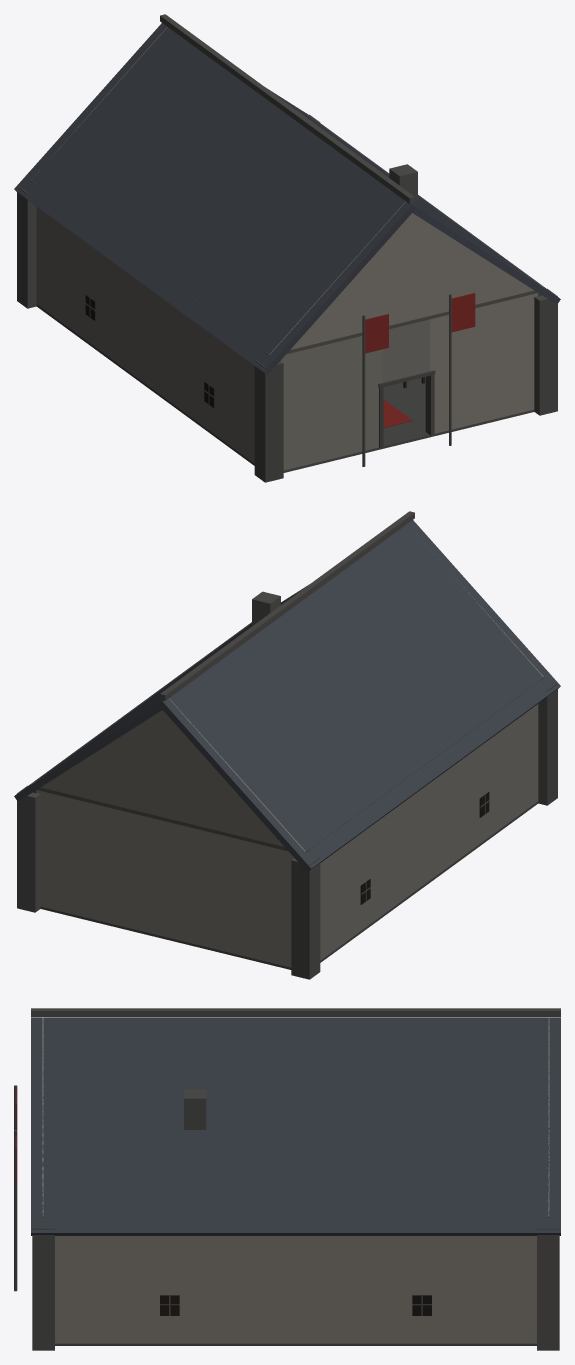
Rendered from walk_freehold_hall.glb.
3 renders of one model, top to bottom at view 1: azimuth 30°, elevation 25°; view 2: azimuth 150°, elevation 25°; view 3: azimuth 270°, elevation 25°, orthographic. The views are drawn at different scales.
Visible parts, largest first — view 1: walk_freehold_hall_roof, walk_freehold_hall; view 2: walk_freehold_hall_roof, walk_freehold_hall; view 3: walk_freehold_hall_roof, walk_freehold_hall.
Boxes of the visible parts, left/top/right/bottom form: walk_freehold_hall_roof: left=14, top=14, right=560, bottom=375; walk_freehold_hall: left=17, top=113, right=557, bottom=482; walk_freehold_hall_roof: left=14, top=511, right=560, bottom=872; walk_freehold_hall: left=17, top=623, right=557, bottom=979; walk_freehold_hall_roof: left=31, top=1008, right=560, bottom=1235; walk_freehold_hall: left=14, top=1085, right=559, bottom=1350.
Size of what is drawn, in the model's own units: 13 by 10.44 by 19.51.
Materials: 2 (2 with a texture image).
